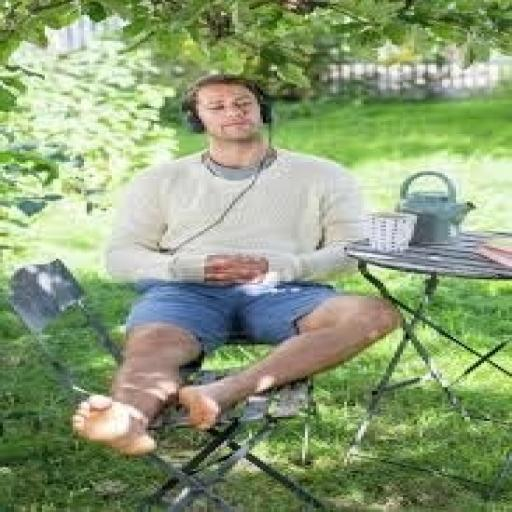listening_to_music: (67, 73, 406, 458)
